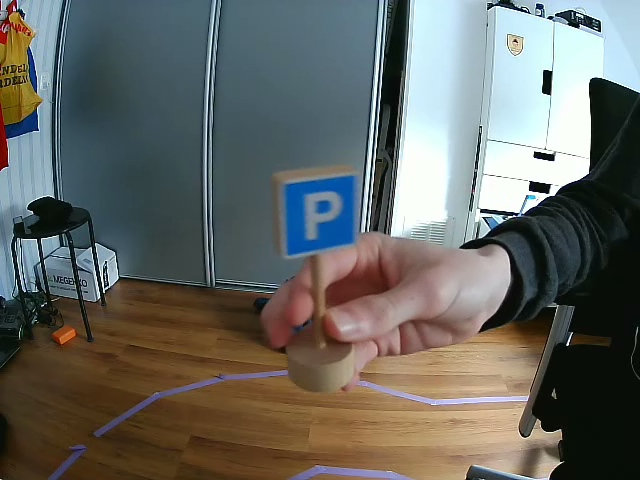parkeerbord: (278, 164, 358, 258)
